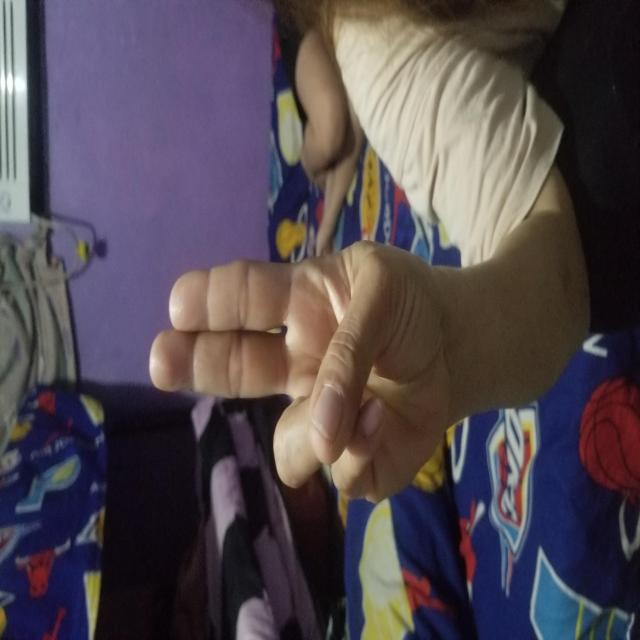U: (134, 148, 402, 450)
